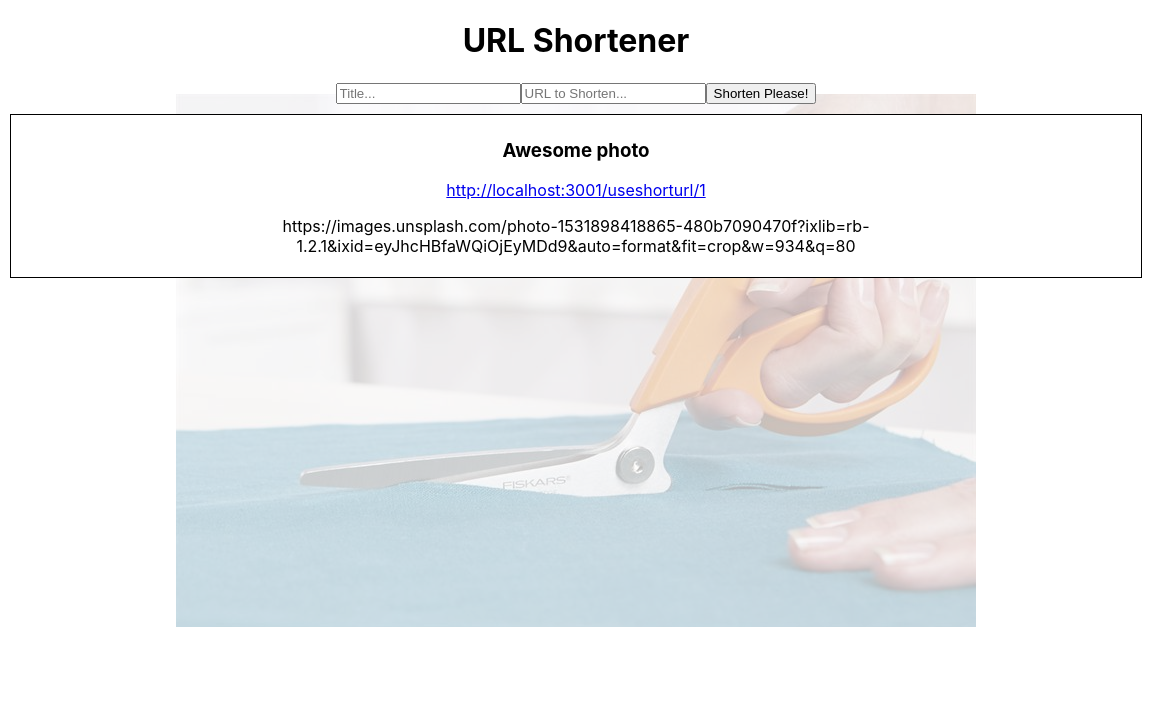
it: Get request for the APP › Should post the new object to the server
This screenshot has width=1152, height=720.
Expected: the heading "URL Shortener" is shown, [463,21,689,60]
Type "Post Title" into the field named "title" at (429, 94), box [336,83,521,104]
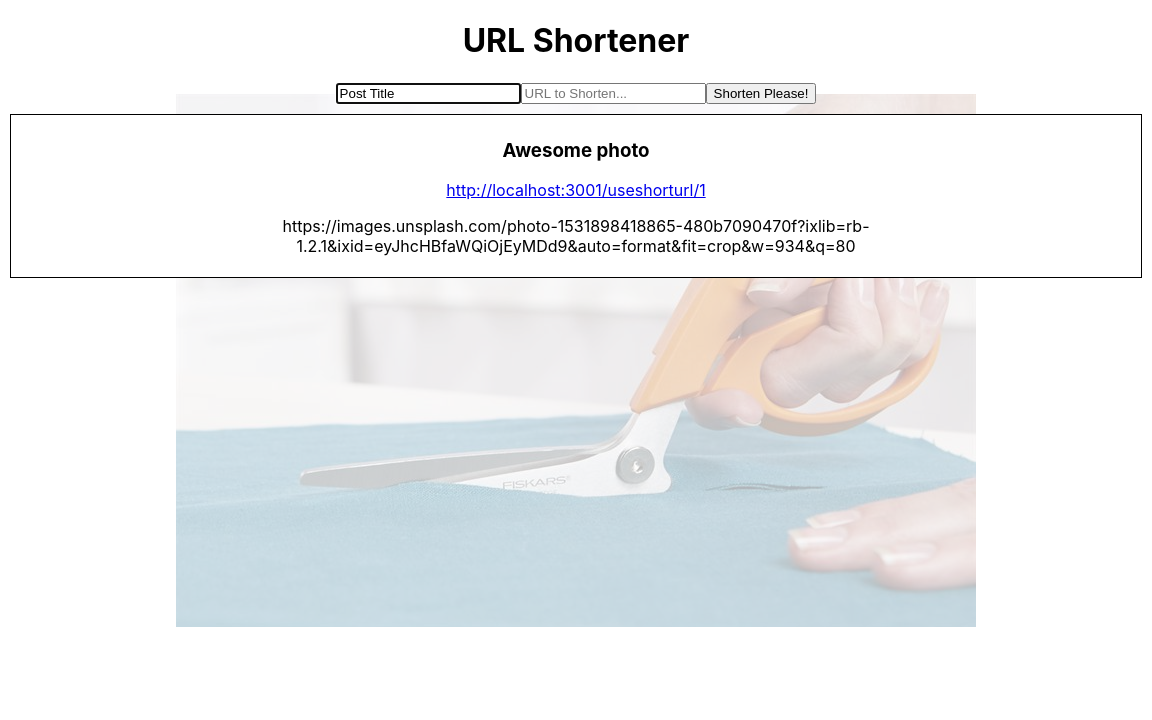
Type "https://example.cypress.io" into the field named "urlToShorten" at (614, 94), box [521,83,706,104]
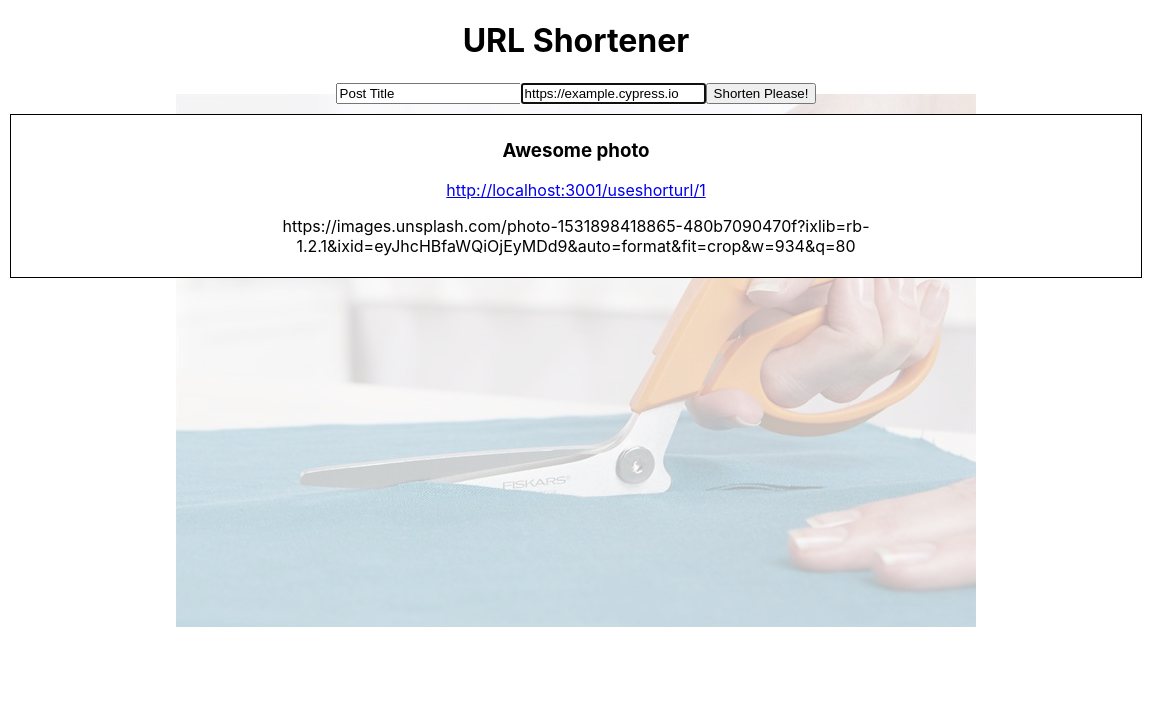
Click the button "Shorten Please!" at (762, 94), box [706,83,817,104]
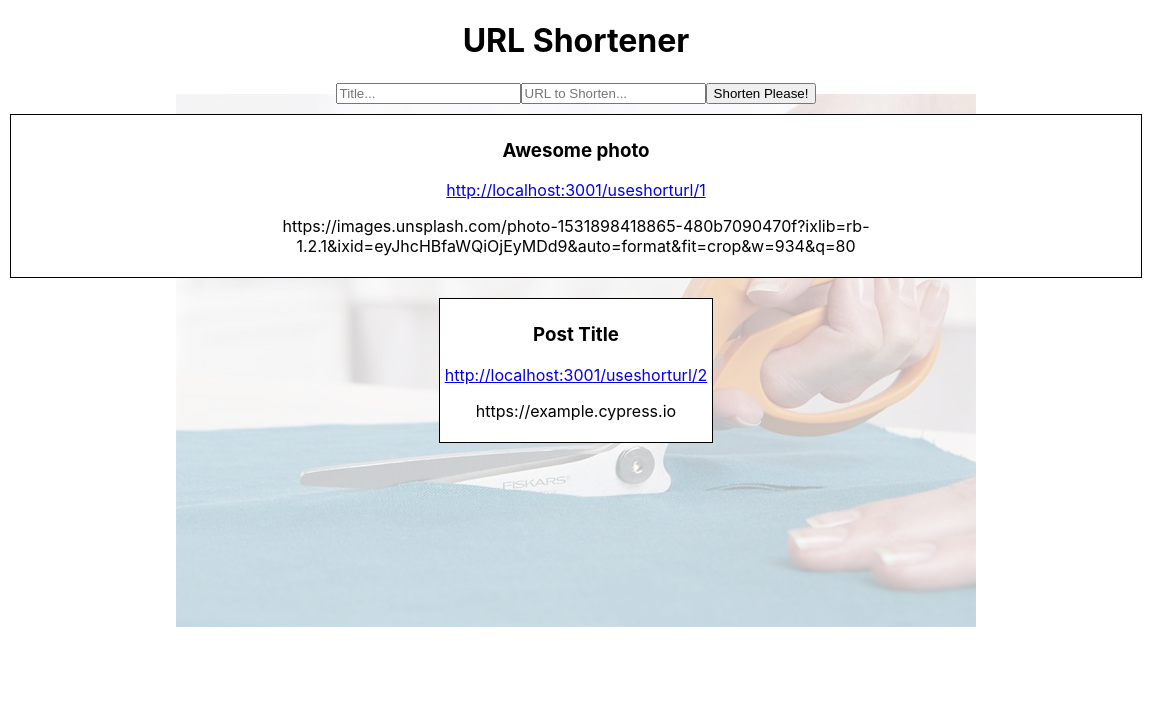
Now the number of elements with class "url" is 2, box [10,114,1142,278]; [439,298,713,443]
Now the heading with class "cards" reads "Post Title", box [533,323,619,346]
Now the text with class "cards" reads "https://example.cypress.io", box [476,401,676,421]
